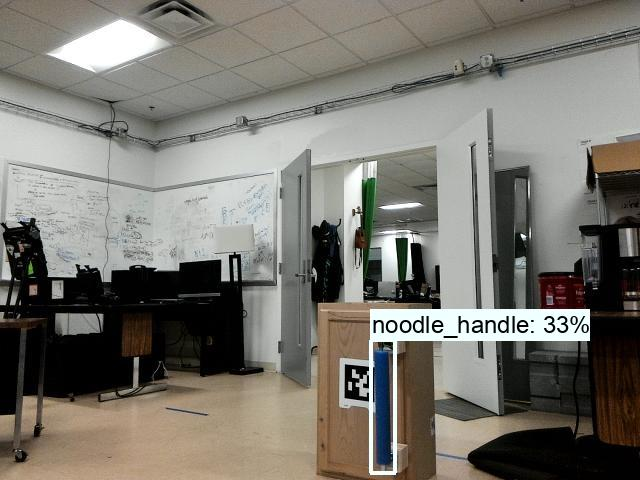noodle_handle: (372, 347, 396, 465)
